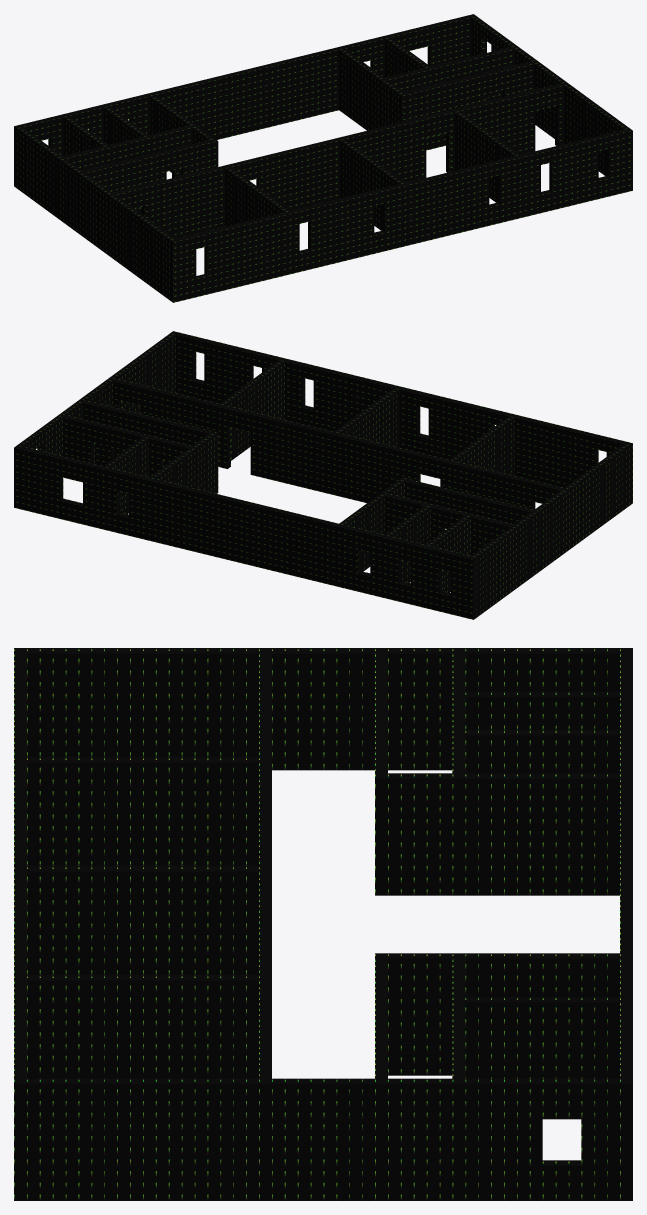
The model's file is convitto_primopiano_uvs.gltf.
3 renders of one model, top to bottom at view 1: azimuth 30°, elevation 25°; view 2: azimuth 150°, elevation 25°; view 3: azimuth 270°, elevation 25°, orthographic. The views are drawn at different scales.
Parts seen in each view (by area): view 1: Layer.1, Layer.7, Layer.17, Layer.2, Layer.6, Layer.9, Layer.8, Layer.15, Layer.11, Layer.10, Layer.4, Layer.5 (+5 smaller); view 2: Layer.17, Layer.1, Layer.7, Layer.2, Layer.6, Layer.11, Layer.9, Layer.10, Layer.5, Layer.8, Layer.3, Layer.4 (+5 smaller); view 3: Layer.6, Layer.2, Layer.14, Layer.3, Layer.4, Layer.5, Layer.15, Layer.16, Layer.1, Layer.17, Layer.13, Layer.12 (+5 smaller).
Part boxes in pixels (box(x1,y1,x2,y2)): Layer.1: box(170, 128, 632, 302); Layer.7: box(113, 83, 564, 238); Layer.17: box(14, 14, 476, 188); Layer.2: box(17, 127, 174, 300); Layer.6: box(471, 16, 629, 175); Layer.9: box(399, 61, 534, 150); Layer.8: box(83, 139, 218, 213); Layer.15: box(339, 48, 404, 130); Layer.11: box(385, 47, 514, 100); Layer.10: box(63, 125, 192, 178); Layer.4: box(340, 139, 404, 230); Layer.5: box(455, 111, 519, 202); Layer.17: box(14, 445, 476, 619); Layer.1: box(170, 331, 632, 505); Layer.7: box(112, 378, 563, 509); Layer.2: box(472, 444, 629, 617); Layer.6: box(17, 333, 175, 456); Layer.11: box(63, 415, 191, 477); Layer.9: box(82, 400, 218, 493); Layer.10: box(384, 493, 513, 555); Layer.5: box(219, 360, 284, 460); Layer.8: box(399, 477, 533, 544); Layer.3: box(449, 416, 514, 475); Layer.4: box(334, 388, 399, 447); Layer.6: box(27, 1078, 619, 1200); Layer.2: box(27, 648, 619, 770); Layer.14: box(388, 773, 619, 895); Layer.3: box(27, 757, 258, 865); Layer.4: box(27, 866, 258, 974); Layer.5: box(27, 975, 258, 1078); Layer.15: box(388, 953, 619, 1075); Layer.16: box(465, 997, 619, 1119); Layer.1: box(14, 648, 26, 1200); Layer.17: box(620, 648, 632, 1200); Layer.13: box(465, 729, 619, 773); Layer.12: box(465, 691, 619, 729).
Bounding box in the file's own units: 80 × 10 × 48.
1 material, 1 textured.
